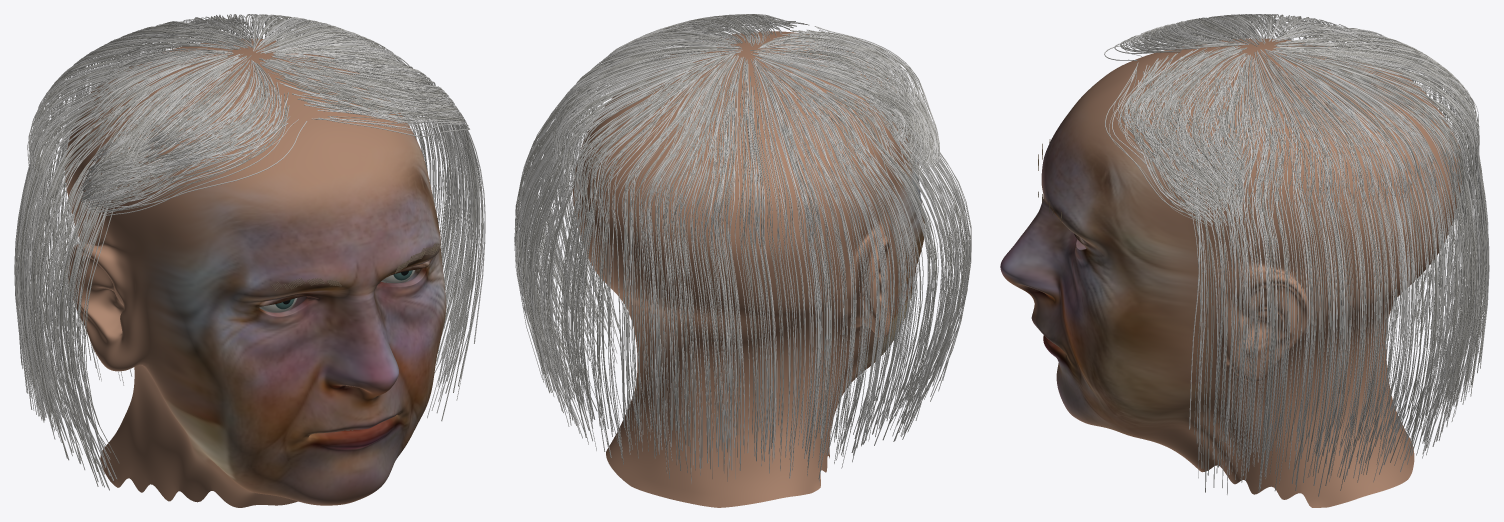
The model's file is elder-head.glb.
The picture shows the model from 3 angles, left to right: view 1: azimuth 30°, elevation 25°; view 2: azimuth 150°, elevation 25°; view 3: azimuth 270°, elevation 25°; orthographic projection. The views are drawn at different scales.
Visible parts, largest first — view 1: Elder head · expressions, Silver strand, Silver strand.001, Silver strand.003, Silver strand.010, Silver strand.002, Silver strand.1250; view 2: Elder head · expressions, Silver strand.002, Silver strand, Silver strand.001, Silver strand.003, Silver strand.010; view 3: Elder head · expressions, Silver strand, Silver strand.001, Silver strand.010, Silver strand.003, Silver strand.002.
Boxes of the visible parts, bbox=[...] form: Elder head · expressions: bbox=[64, 38, 446, 507]; Silver strand: bbox=[15, 14, 483, 487]; Silver strand.001: bbox=[14, 14, 485, 480]; Silver strand.003: bbox=[15, 15, 480, 485]; Silver strand.010: bbox=[16, 14, 483, 490]; Silver strand.002: bbox=[16, 14, 476, 472]; Silver strand.1250: bbox=[271, 243, 441, 290]; Elder head · expressions: bbox=[573, 31, 924, 507]; Silver strand.002: bbox=[516, 14, 971, 479]; Silver strand: bbox=[515, 14, 970, 473]; Silver strand.001: bbox=[514, 14, 970, 483]; Silver strand.003: bbox=[515, 14, 970, 481]; Silver strand.010: bbox=[514, 14, 971, 481]; Elder head · expressions: bbox=[1000, 38, 1462, 507]; Silver strand: bbox=[1120, 14, 1486, 490]; Silver strand.001: bbox=[1112, 14, 1489, 494]; Silver strand.010: bbox=[1104, 14, 1487, 488]; Silver strand.003: bbox=[1105, 14, 1488, 496]; Silver strand.002: bbox=[1120, 14, 1488, 492].
Bounding box in the file's own units: 0.2107 × 0.1997 × 0.2159.
Materials: 11 (1 with a texture image).
